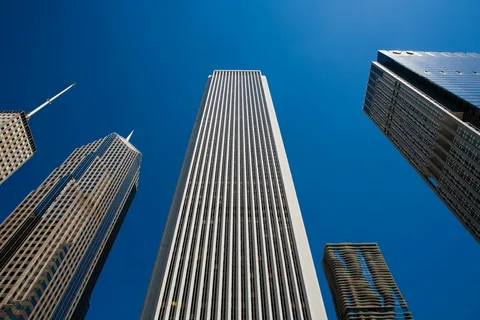high_rise_building: (176, 57, 306, 318)
